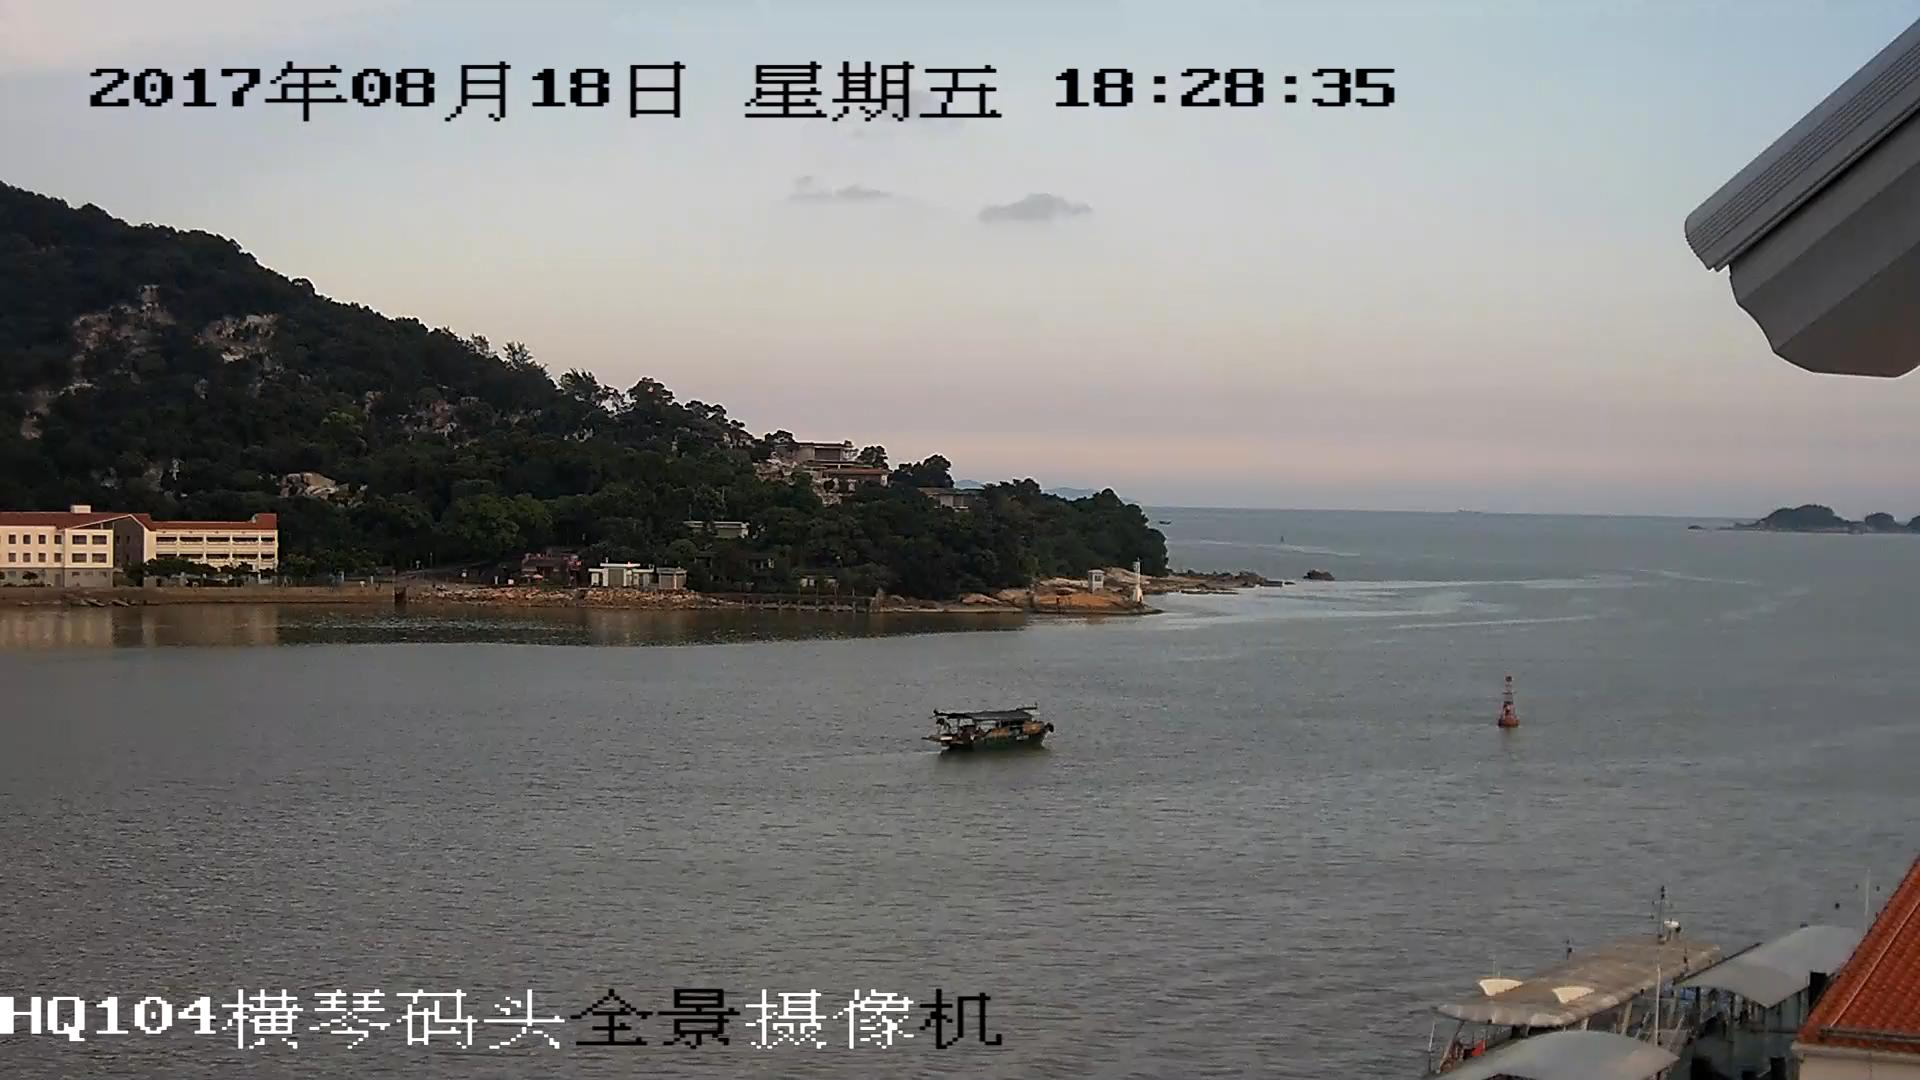fishing boat: (930, 704, 1050, 747)
